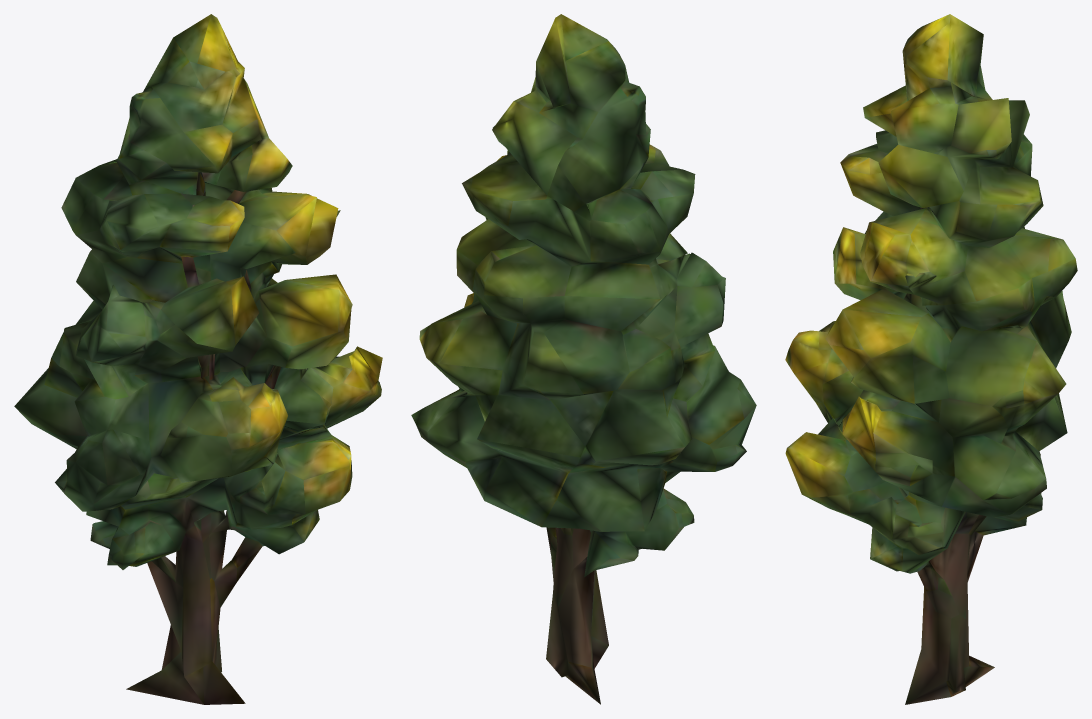
The model's file is agac_cam.glb.
3 renders of one model, left to right at view 1: azimuth 30°, elevation 25°; view 2: azimuth 150°, elevation 25°; view 3: azimuth 270°, elevation 25°, orthographic. The views are drawn at different scales.
Parts seen in each view (by area): view 1: tripo_node_0ba1c7b4-380b-4cc9-a40f-bfea6eac9d79; view 2: tripo_node_0ba1c7b4-380b-4cc9-a40f-bfea6eac9d79; view 3: tripo_node_0ba1c7b4-380b-4cc9-a40f-bfea6eac9d79.
Part boxes in pixels (left/top/right/bottom): tripo_node_0ba1c7b4-380b-4cc9-a40f-bfea6eac9d79: left=14, top=14, right=382, bottom=704; tripo_node_0ba1c7b4-380b-4cc9-a40f-bfea6eac9d79: left=411, top=14, right=756, bottom=704; tripo_node_0ba1c7b4-380b-4cc9-a40f-bfea6eac9d79: left=785, top=14, right=1077, bottom=704.
Size of the model in its own units: 0.4569 by 0.9605 by 0.3716.
1 material, 1 textured.
